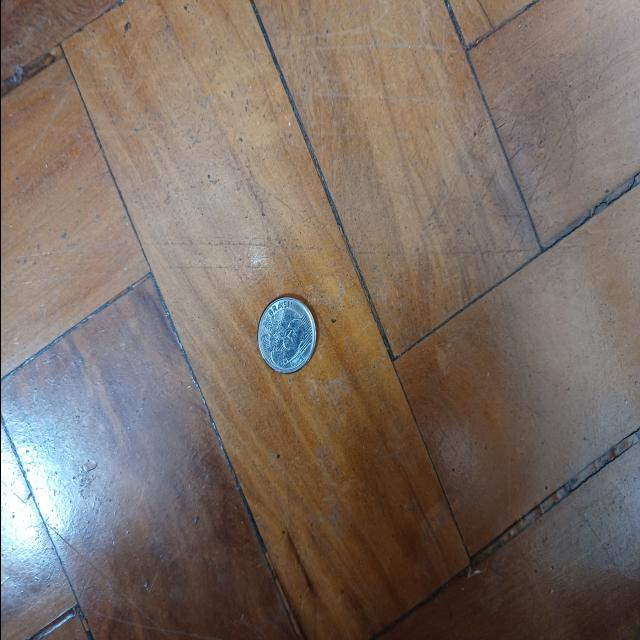50 cents: (255, 297, 318, 377)
